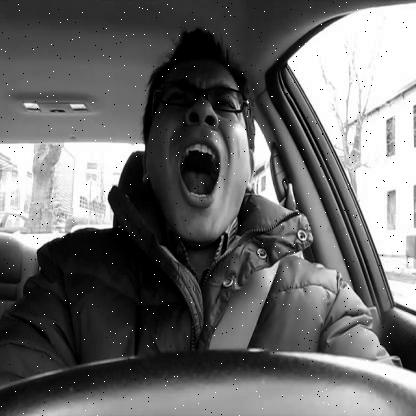seatbelt: (110, 13, 294, 352)
